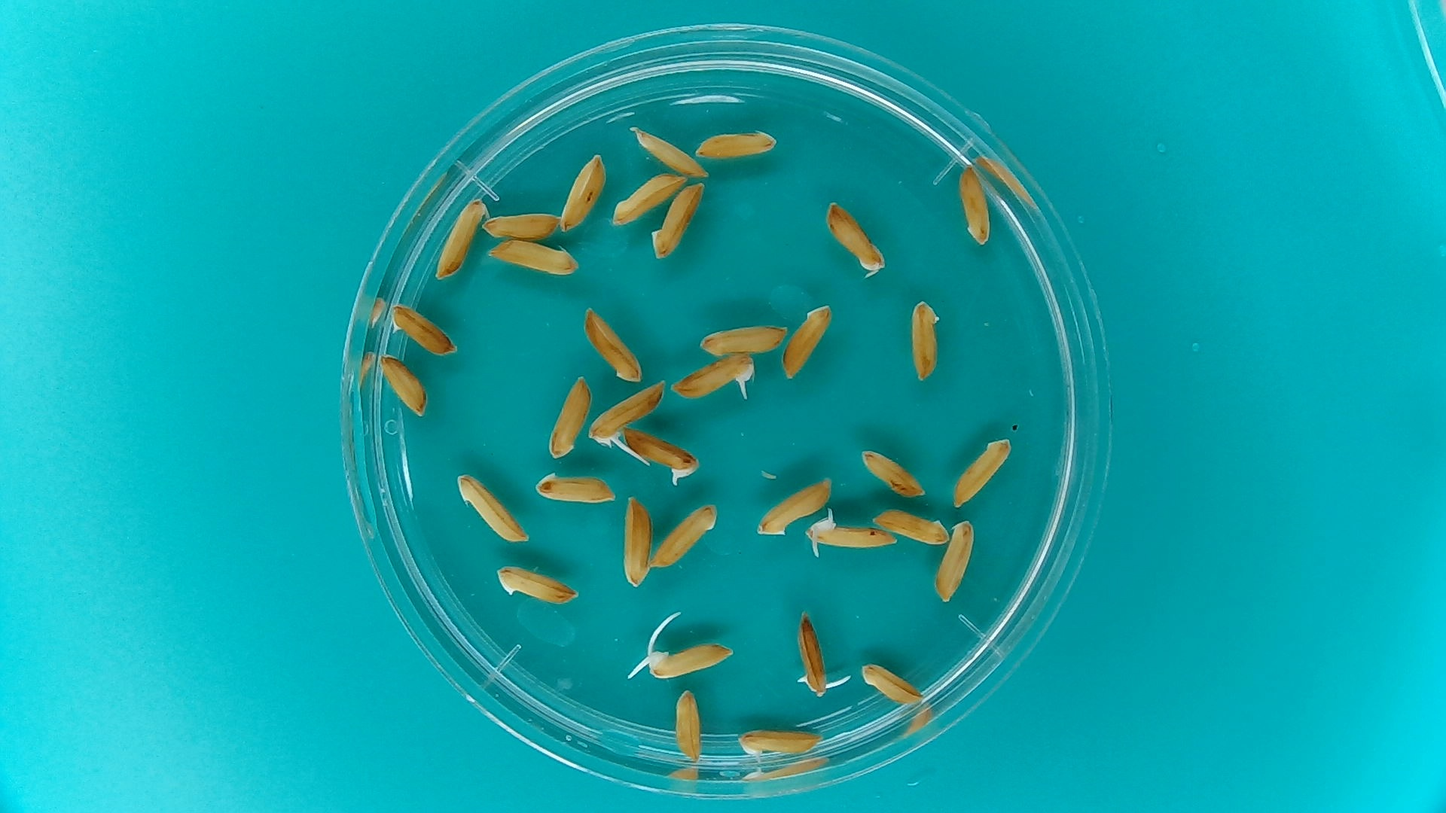no: (454, 473, 530, 546), (752, 475, 835, 537), (825, 199, 886, 279), (582, 306, 644, 382), (649, 181, 706, 262), (434, 196, 488, 281), (950, 437, 1014, 507), (609, 170, 688, 226), (650, 502, 717, 568), (780, 302, 833, 380), (559, 151, 606, 236), (633, 126, 709, 178), (487, 237, 580, 277), (548, 373, 590, 461), (493, 562, 580, 604), (858, 447, 927, 498), (935, 518, 975, 605), (377, 352, 428, 419), (697, 322, 790, 358), (871, 507, 951, 546), (957, 163, 993, 248), (621, 496, 653, 591), (533, 470, 618, 505), (692, 128, 778, 161), (737, 726, 822, 759), (860, 662, 925, 705), (909, 298, 941, 382), (482, 209, 562, 241), (673, 686, 702, 763)
yes: (587, 379, 668, 466), (620, 425, 711, 488), (797, 507, 899, 550), (670, 352, 758, 401), (641, 640, 734, 682), (389, 302, 458, 358), (798, 614, 837, 698)
